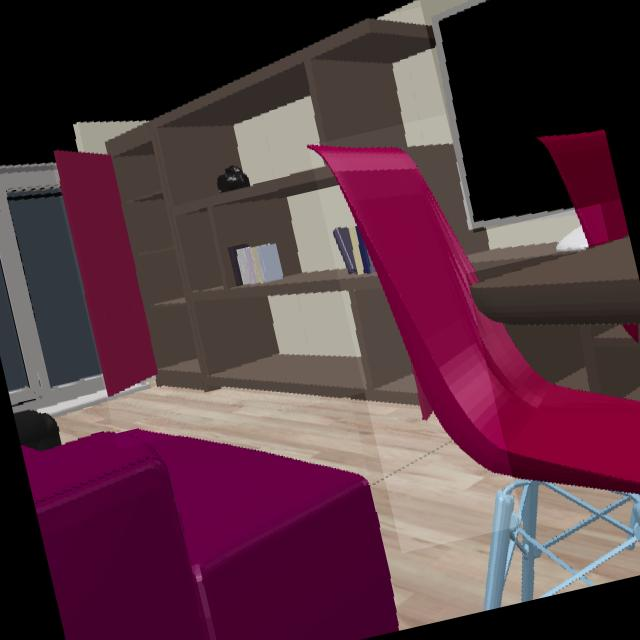bookshelf: (54, 20, 488, 396)
chair: (308, 145, 640, 495), (537, 129, 629, 248)
monitor: (435, 0, 605, 225)
sofa: (21, 428, 400, 640)
table: (470, 236, 640, 364)
